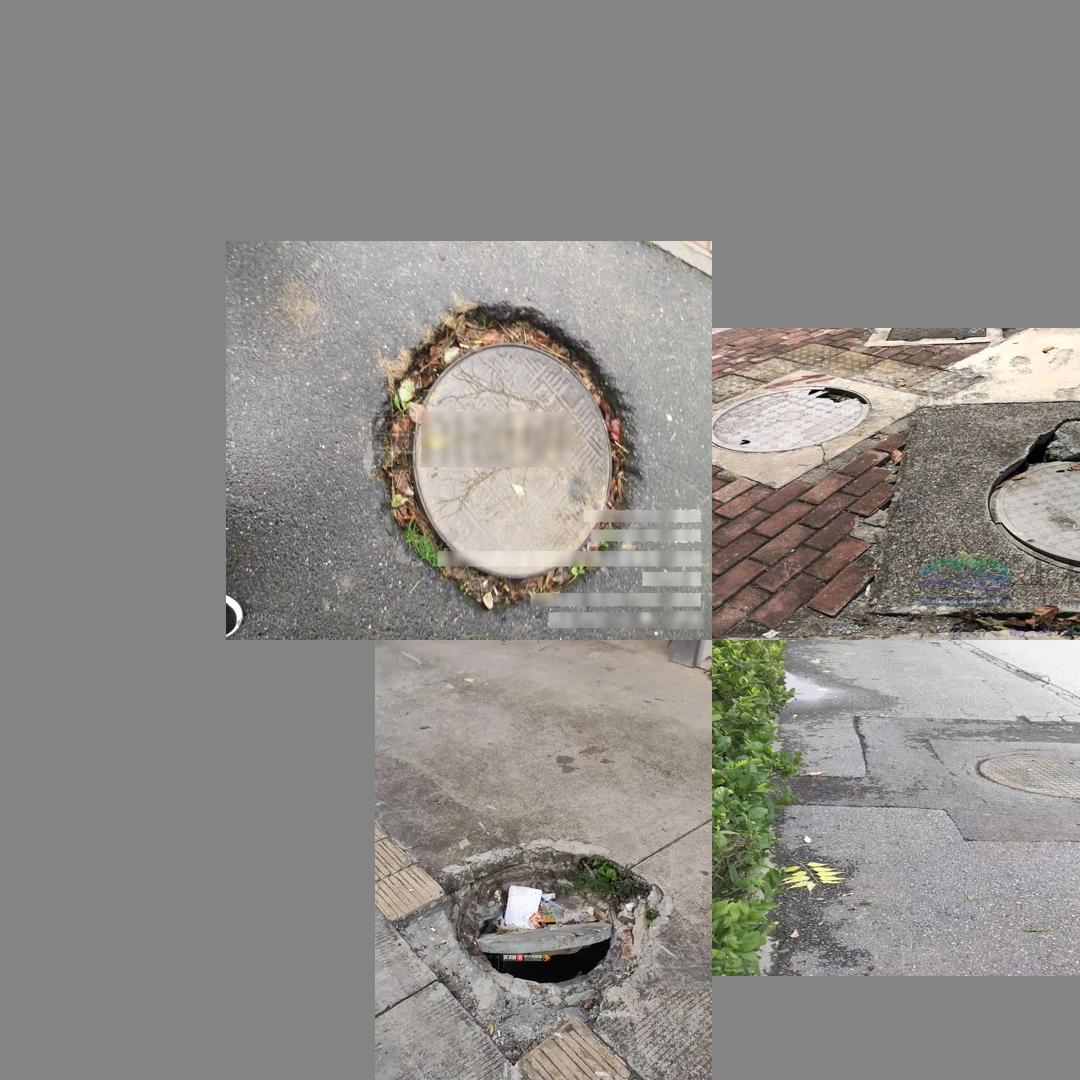circle: (371, 305, 643, 605), (406, 833, 682, 1049), (859, 390, 1080, 615), (867, 729, 1080, 838)
